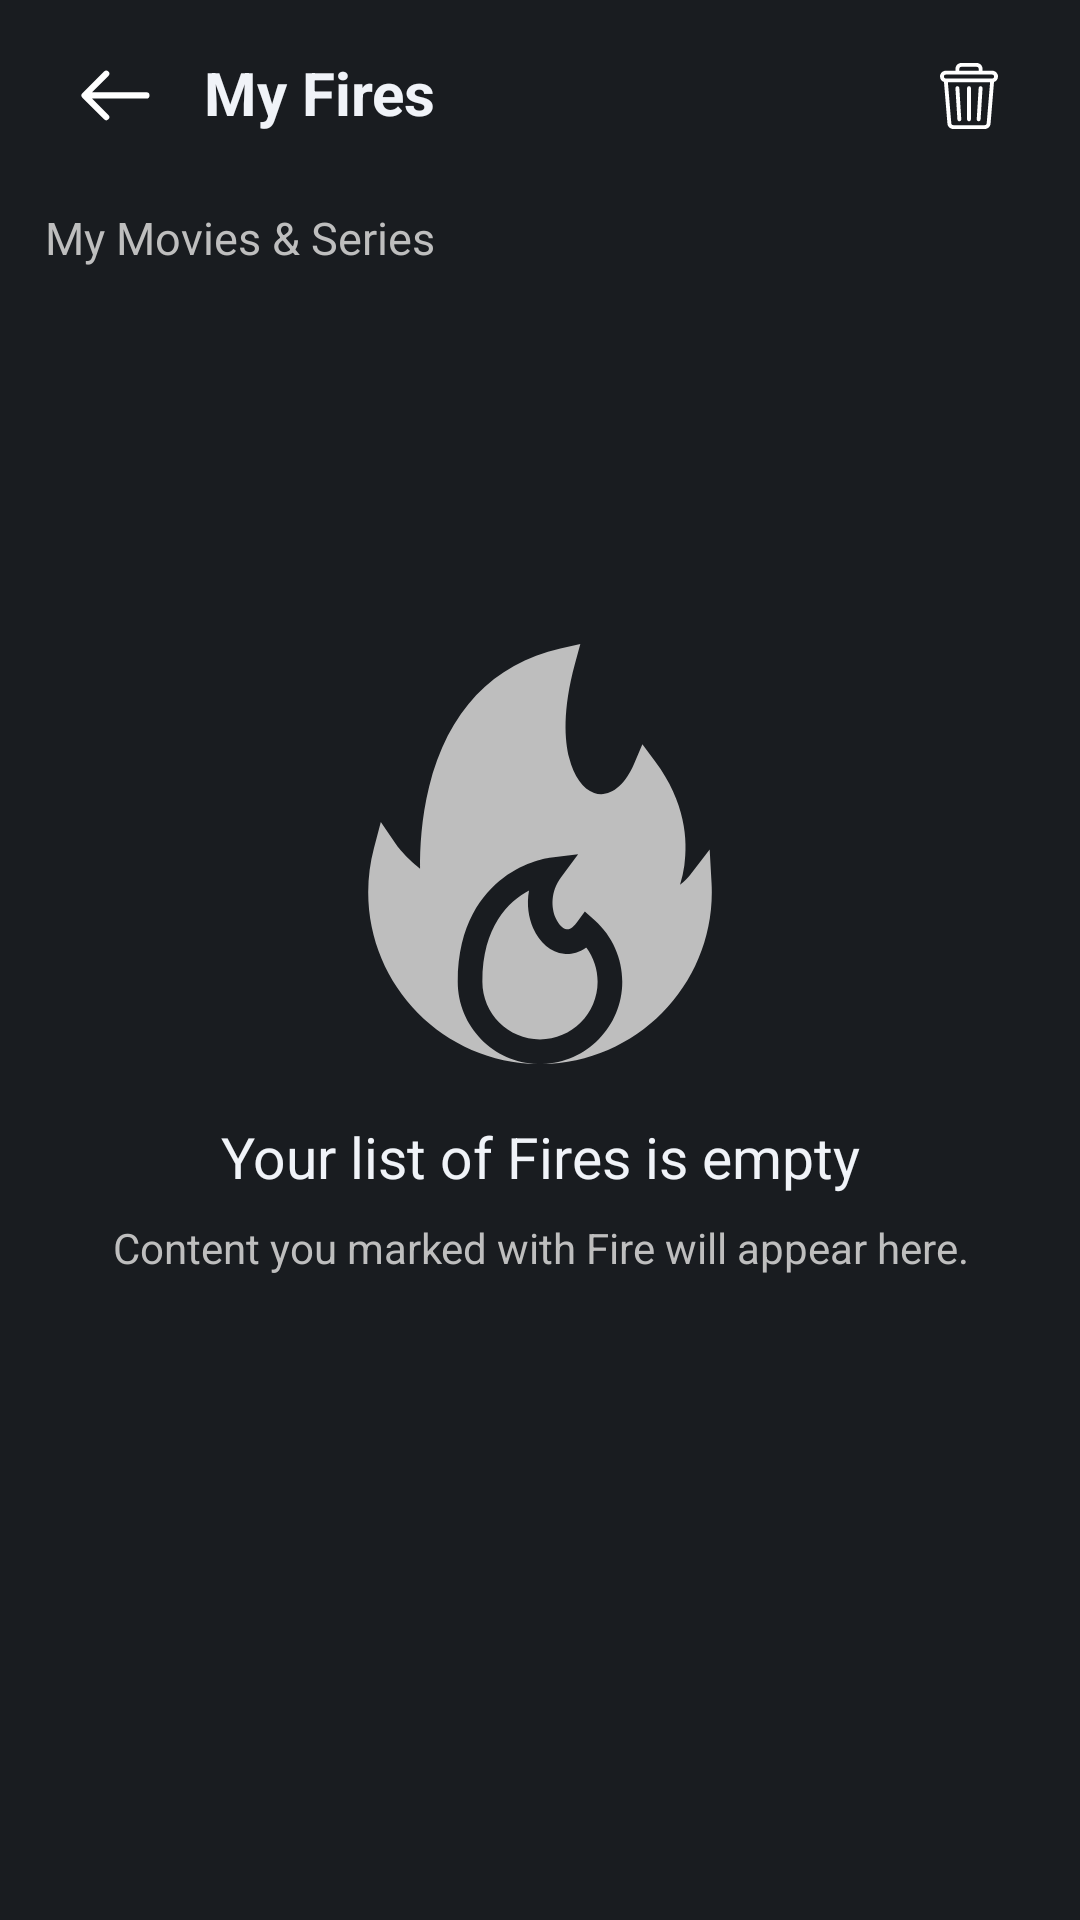

Icons on this 1080×1920 Android screen, each with its box as [x1,y1,x2,y2]:
arrow back: [81,70,150,121]
delete: [940,63,998,129]
